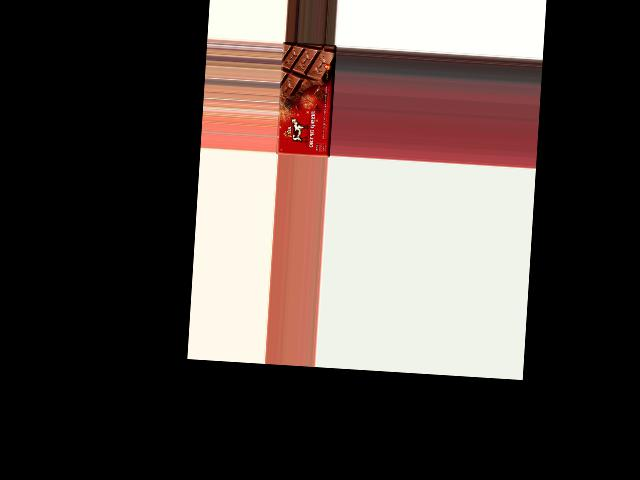chocolate: (276, 42, 336, 158)
